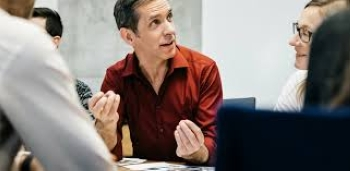hand: (173, 119, 205, 158), (89, 89, 121, 123)
